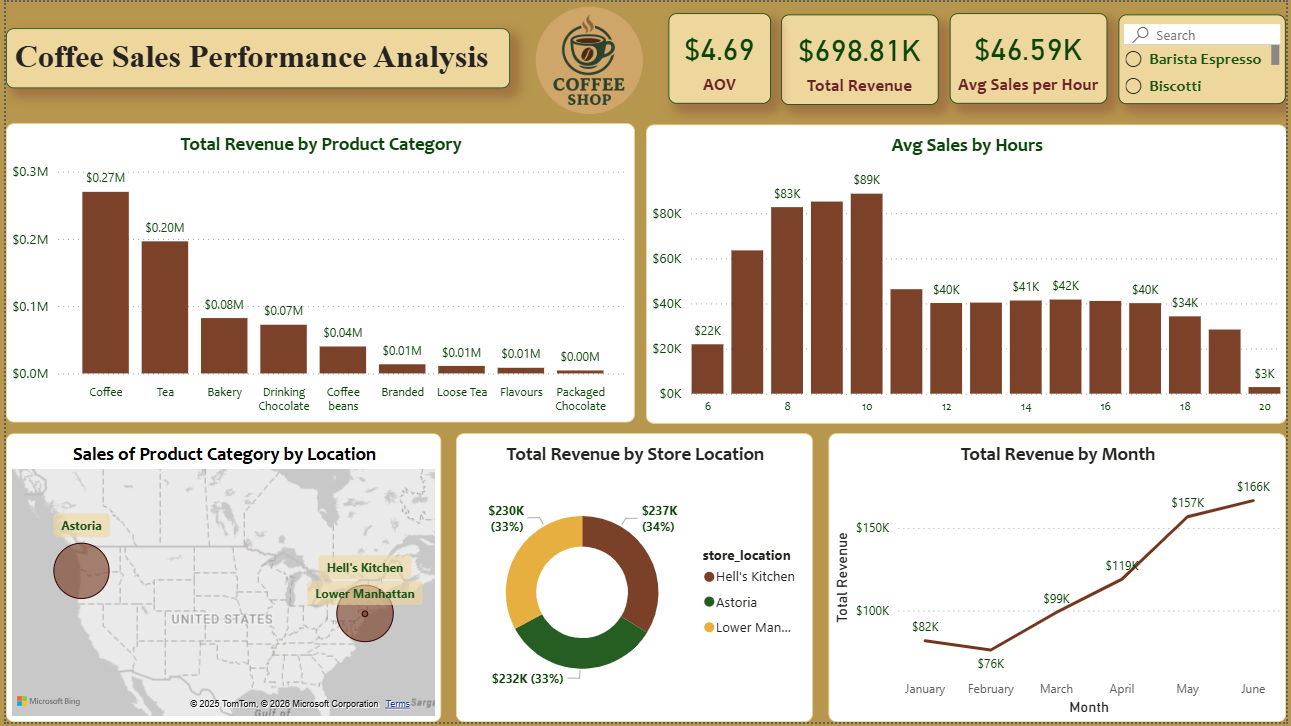

Layout of this report page (visuals, bound fields, positions):
{"tool":"powerbi","page":{"name":"Page 1","canvas":[1280,720],"ordinal":0},"visuals":[{"type":"card","fields":{"Values":["Transactions.Total Revenue"]},"box":[775.3,12.2,157.7,90.5],"z":0},{"type":"card","fields":{"Values":["Transactions.AOV"]},"box":[662.8,11,102.7,90.5],"z":1000},{"type":"card","fields":{"Values":["Transactions.Avg Sales per Hour"]},"box":[944,11,157.7,90.5],"z":2000},{"type":"textbox","box":[0,25.7,503.8,59.9],"z":3000},{"type":"image","box":[513.6,0,139.4,117.4],"z":4000},{"type":"columnChart","fields":{"Category":["Transactions.product_category"],"Y":["Transactions.Total Revenue"]},"box":[0,121.1,628.5,299.6],"z":5000},{"type":"map","title":"Sales of Product Category by Location","fields":{"Category":["Transactions.store_location"],"Size":["CountNonNull(Transactions.product_category)"]},"box":[0,431.7,435.3,288.6],"z":6000},{"type":"lineChart","fields":{"Category":["Transactions.transaction_date.Variation.Date Hierarchy.Month"],"Y":["Transactions.Total Revenue"]},"box":[823,431.7,457.3,288.6],"z":7000},{"type":"columnChart","fields":{"Category":["Transactions.Hour"],"Y":["Transactions.Avg Sales per Hour"]},"box":[639.5,122.3,640.8,299.6],"z":8000},{"type":"donutChart","title":"Total Revenue by Store Location","fields":{"Y":["Transactions.Total Revenue"],"Category":["Transactions.store_location"]},"box":[450,431.7,357.1,288.6],"z":9000},{"type":"listSlicer","fields":{"Values":["Transactions.product_type"]},"box":[1112.8,12.2,167.5,89.3],"z":10000}]}

Visuals, with their boxes in screenshot pixels (x1, y1, x2, y2), scaled from the page's 1280x720 canvas onto the 1291x726 screenshot:
card - Transactions.Total Revenue: bbox(782, 12, 941, 104)
card - Transactions.AOV: bbox(668, 11, 772, 102)
card - Transactions.Avg Sales per Hour: bbox(952, 11, 1111, 102)
textbox: bbox(0, 26, 508, 86)
image: bbox(518, 0, 659, 118)
columnChart - Transactions.product_category x Transactions.Total Revenue: bbox(0, 122, 634, 424)
"Sales of Product Category by Location" map: bbox(0, 435, 439, 725)
lineChart - Transactions.transaction_date.Variation.Date Hierarchy.Month x Transactions.Total Revenue: bbox(830, 435, 1290, 725)
columnChart - Transactions.Hour x Transactions.Avg Sales per Hour: bbox(645, 123, 1290, 425)
"Total Revenue by Store Location" donutChart: bbox(454, 435, 814, 725)
listSlicer - Transactions.product_type: bbox(1122, 12, 1290, 102)
